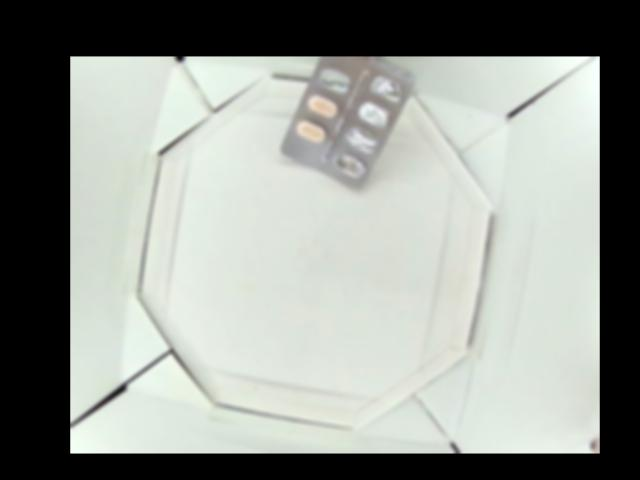Medicine: (277, 57, 423, 192)
